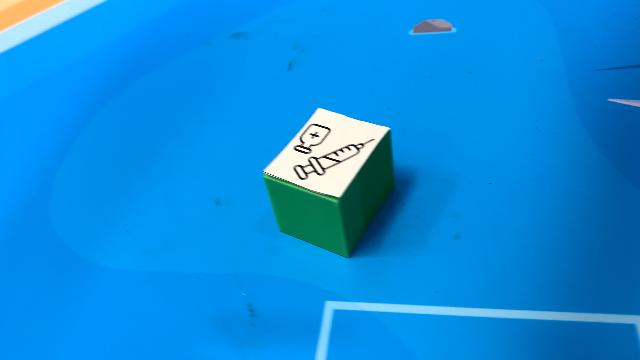syringe: (262, 106, 394, 258)
